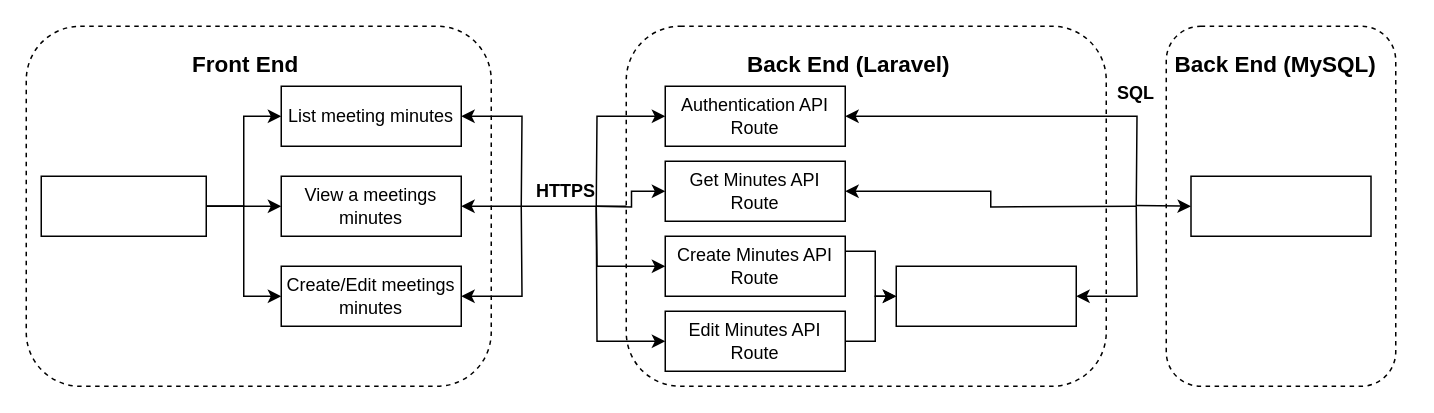
Some shapes in this 1434 by 413 pixel diagram are drawn without their labels. The centre of each missing label's shape, as x and y in pixels:
"Login" belongs at (123,205).
"Read/Add/Edit/Remove data from database" belongs at (1280,205).
"Validate minutes follow the correct schema" belongs at (985,295).
